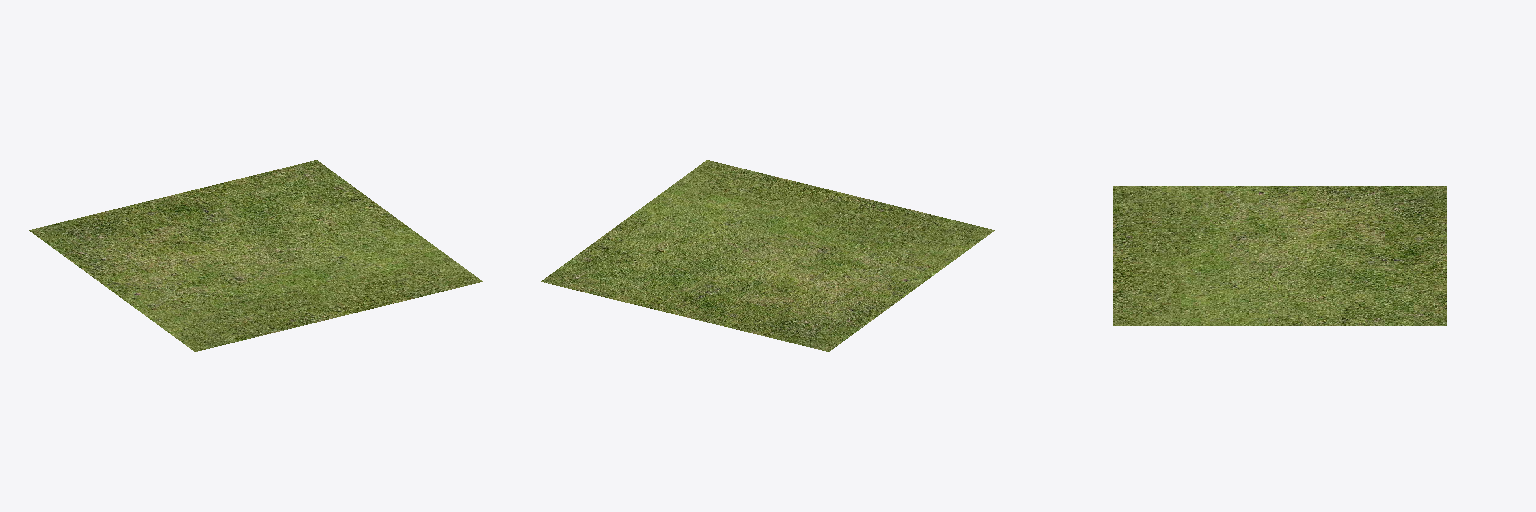
3 renders of one model, left to right at view 1: azimuth 30°, elevation 25°; view 2: azimuth 150°, elevation 25°; view 3: azimuth 270°, elevation 25°, orthographic.
Visible parts, largest first — view 1: Plane; view 2: Plane; view 3: Plane.
Boxes of the visible parts, <box> form: Plane: <box>29,160,482,351</box>; Plane: <box>541,160,994,351</box>; Plane: <box>1113,186,1446,325</box>.
Bounding box in the file's own units: 1000 × 0 × 1000.
1 materials, 1 textured.